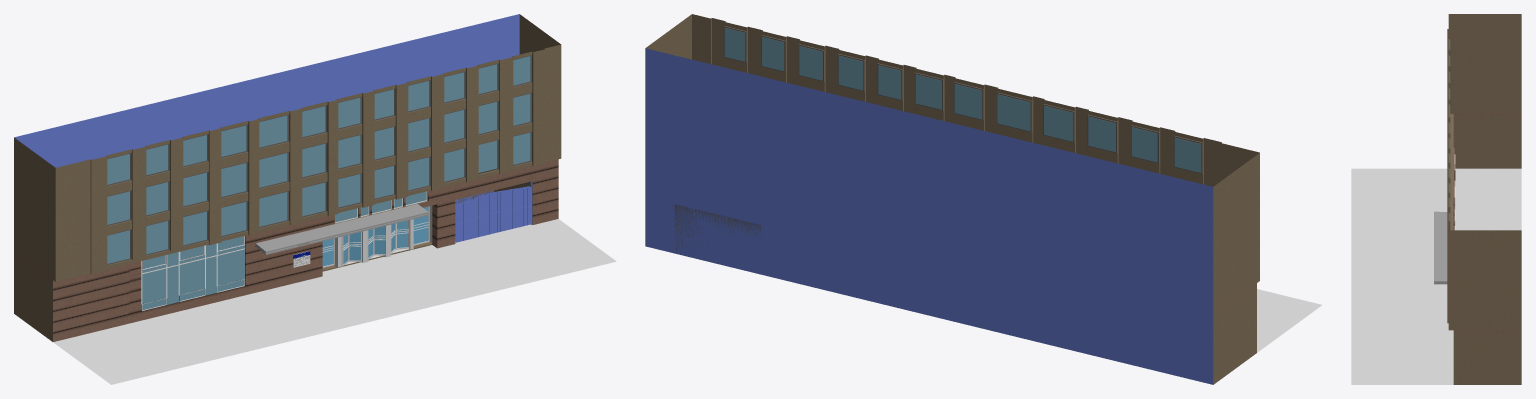
The model's file is Abertay.fbx.
3 views of the same model, side by side, from view 1: azimuth 30°, elevation 25°; view 2: azimuth 150°, elevation 25°; view 3: azimuth 270°, elevation 25° (orthographic). The views are drawn at different scales.
Visible parts, largest first — view 1: Cube.003, Plane.004, Plane.002, Plane.003, Plane.001; view 2: Plane.004, Cube.003, Plane.001; view 3: Cube.003, Plane.001, Plane.003, Plane.002.
Boxes of the visible parts, x1=… form: Cube.003: x1=14, y1=14, x2=561, y2=341; Plane.004: x1=14, y1=14, x2=519, y2=203; Plane.002: x1=222, y1=255, x2=447, y2=343; Plane.003: x1=387, y1=219, x2=616, y2=302; Plane.001: x1=53, y1=301, x2=279, y2=384; Plane.004: x1=645, y1=48, x2=1213, y2=384; Cube.003: x1=645, y1=14, x2=1259, y2=384; Plane.001: x1=1257, y1=289, x2=1321, y2=352; Cube.003: x1=1434, y1=14, x2=1521, y2=384; Plane.001: x1=1351, y1=168, x2=1521, y2=240; Plane.003: x1=1351, y1=313, x2=1453, y2=384; Plane.002: x1=1351, y1=240, x2=1447, y2=312.
Bounding box in the file's own units: 6000 × 2000 × 2000.
15 materials, 2 textured.
